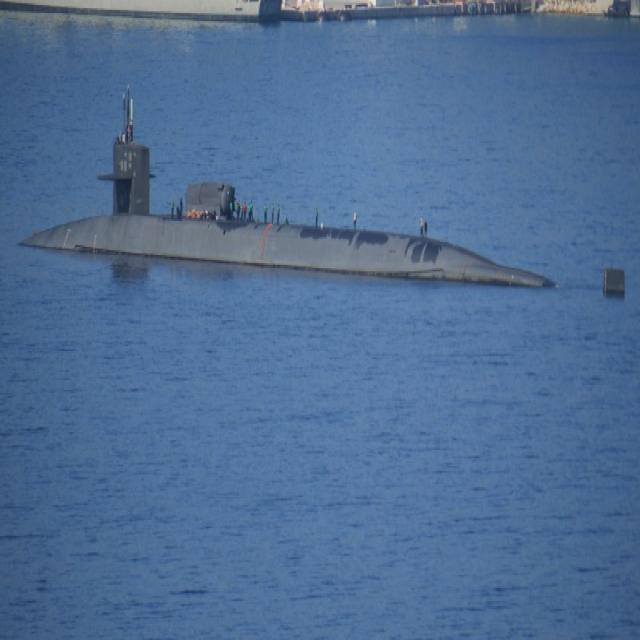submarine: (15, 94, 632, 289)
